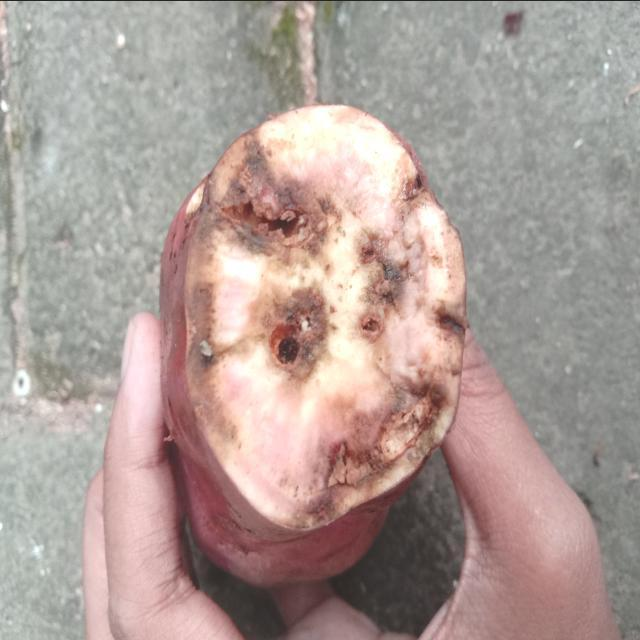Sick Sweet Potato_Tuber Rot: (161, 105, 466, 540)
